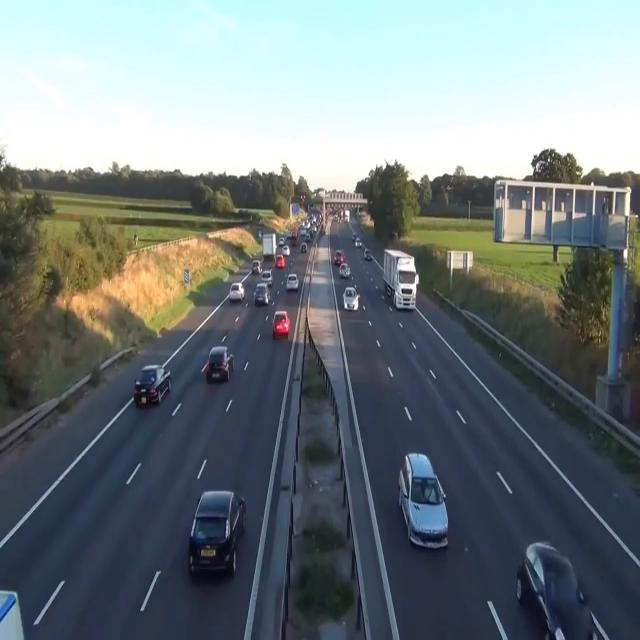belum terisi: (514, 520, 594, 640), (389, 446, 456, 566), (188, 482, 244, 576), (377, 240, 426, 320), (128, 351, 178, 421), (198, 339, 238, 388), (269, 304, 293, 342), (339, 283, 365, 317), (283, 265, 305, 302), (226, 277, 248, 307), (254, 284, 274, 312)
